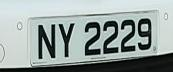2: (82, 19, 102, 59), (102, 19, 120, 56), (119, 16, 136, 55)
9: (136, 13, 153, 54)
N: (34, 21, 57, 61)
Y: (56, 19, 76, 61)
